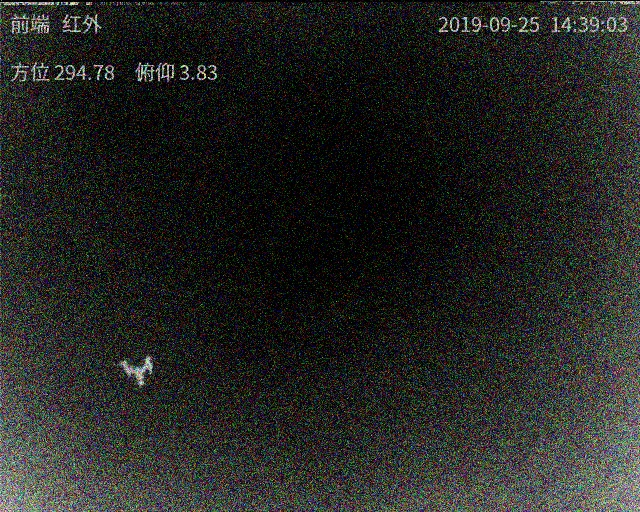uav: (116, 356, 154, 386)
